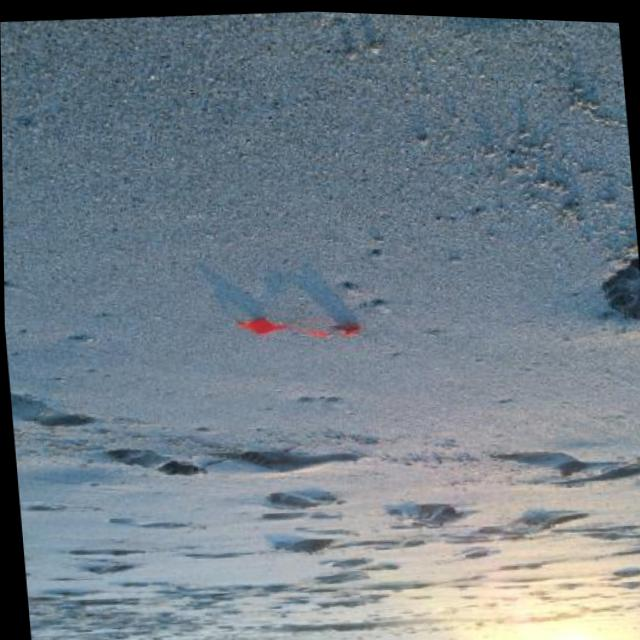plastic: (235, 310, 362, 344)
